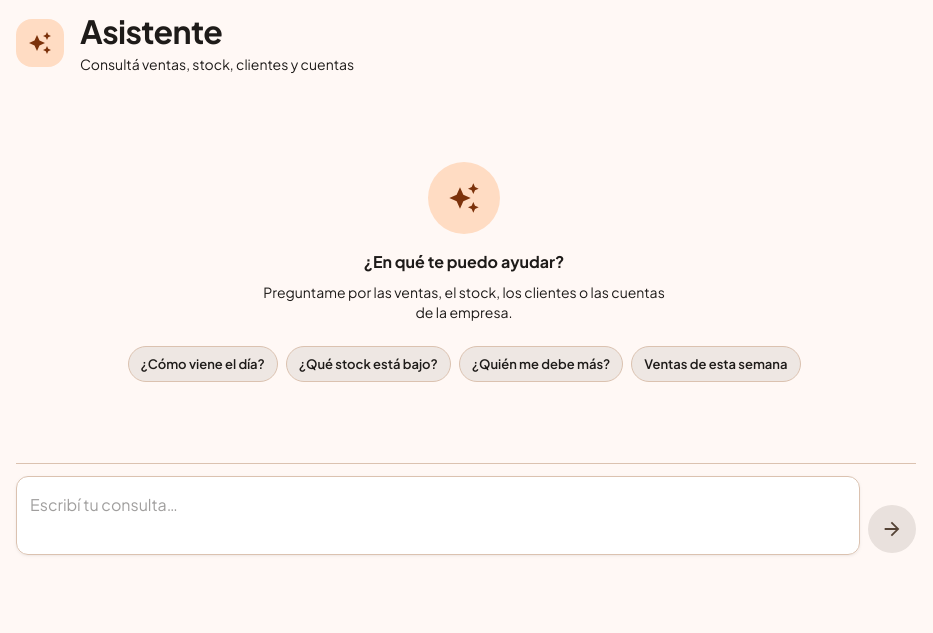
Test: AssistantPage — read-only AI chat › shows the rate-limit message on a 429 error and rolls back the optimistic turn
Expected: the heading "¿En qué te puedo ayudar?" is shown, 364,250 -> 564,274
Type "Hola asistente" into the text box named "Mensaje para el asistente". click: (438, 516)
box: 30,493 -> 846,539
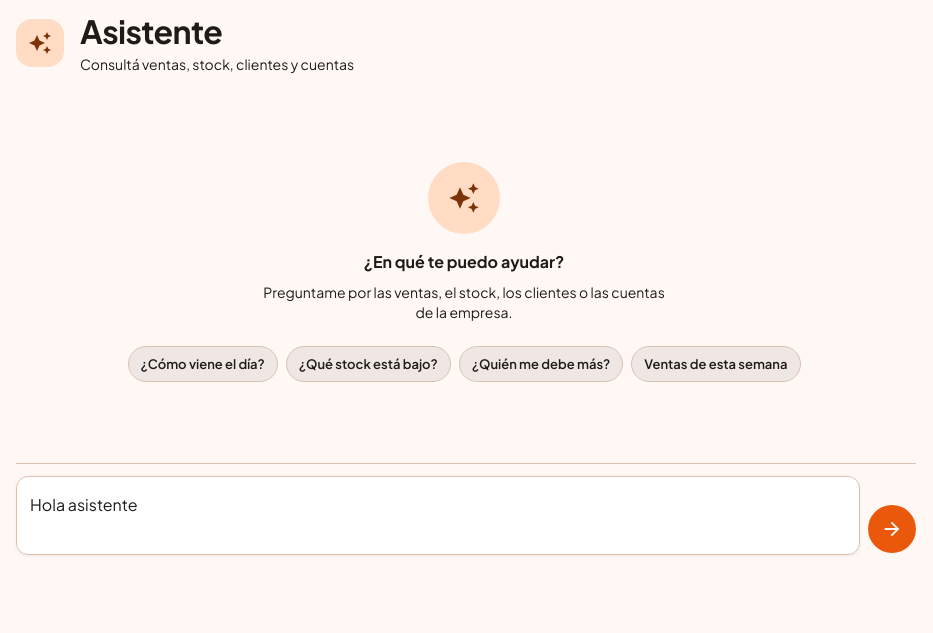
Click the button named "Enviar mensaje". click: (892, 529)
box: 868,505 -> 916,553
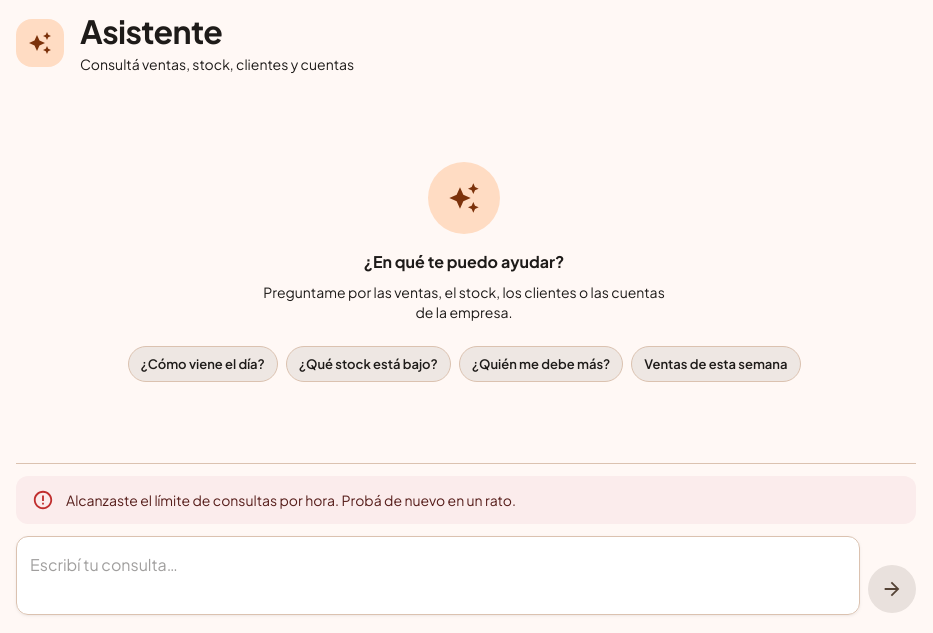
Expected: the text "Hola asistente" is not shown
Now the text "Alcanzaste el límite de consultas por hora. Probá de nuevo en un rato." is shown, box 66,491 -> 516,509
